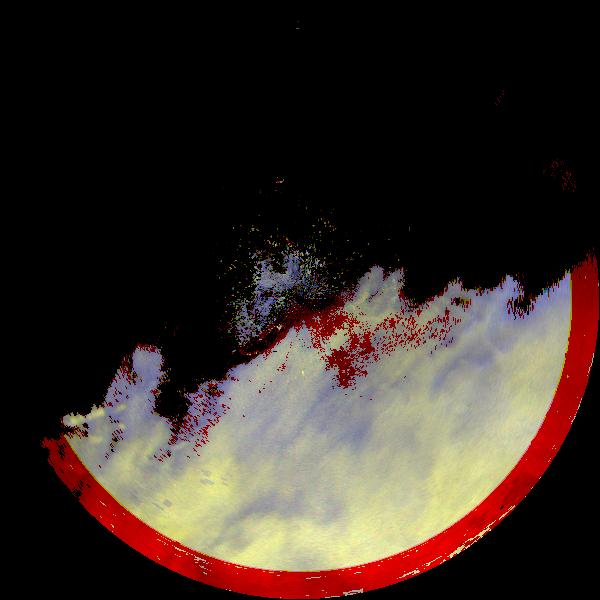roost: (262, 164, 289, 191)
